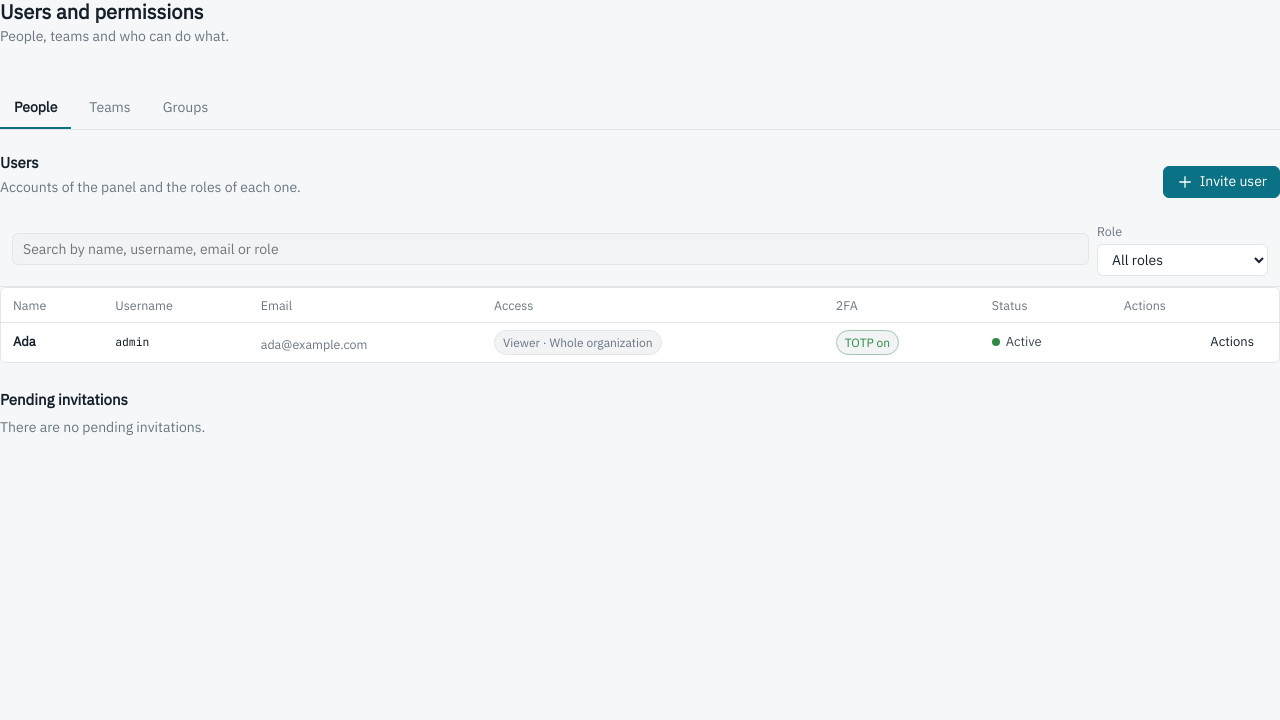
Test: Users screen › falls back to exact-name text entry when the stack list fails
Click the button "Invite user". click: point(1221, 182)
box: [1163,166,1279,198]
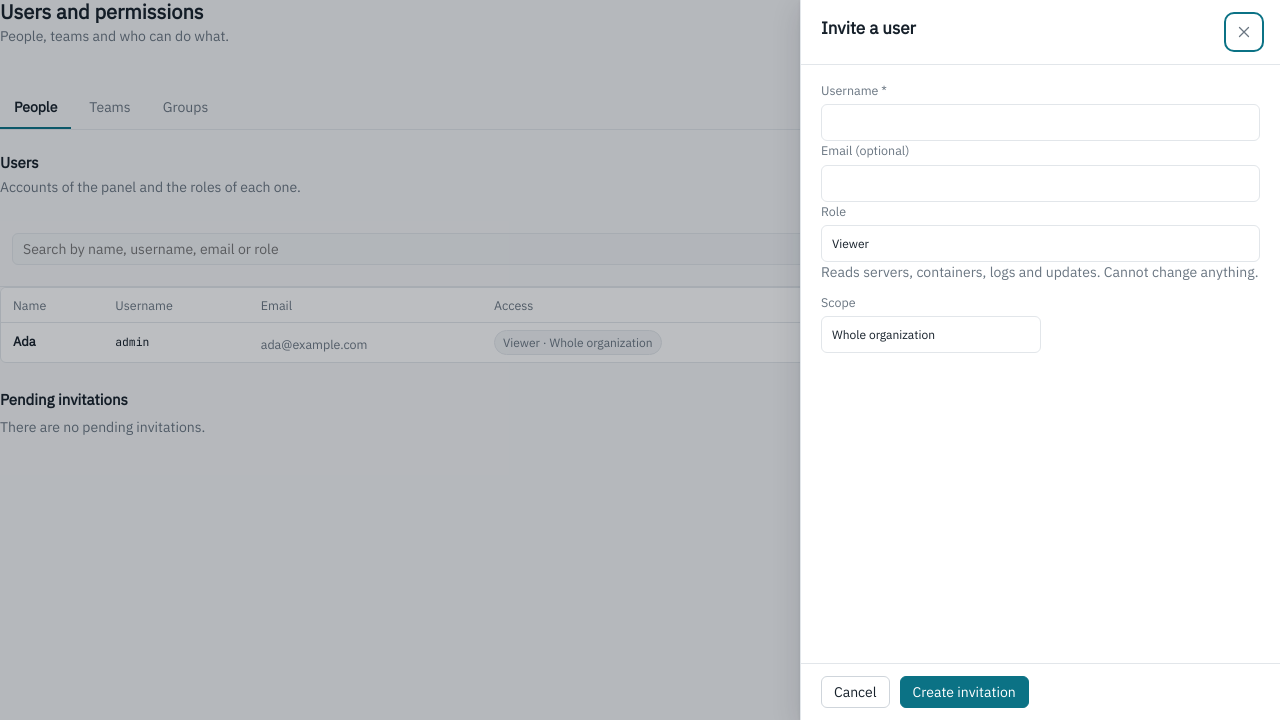
Select "Application operator" in the dropdown labelled "Role". click: point(1040, 244)
box: [821,225,1260,262]
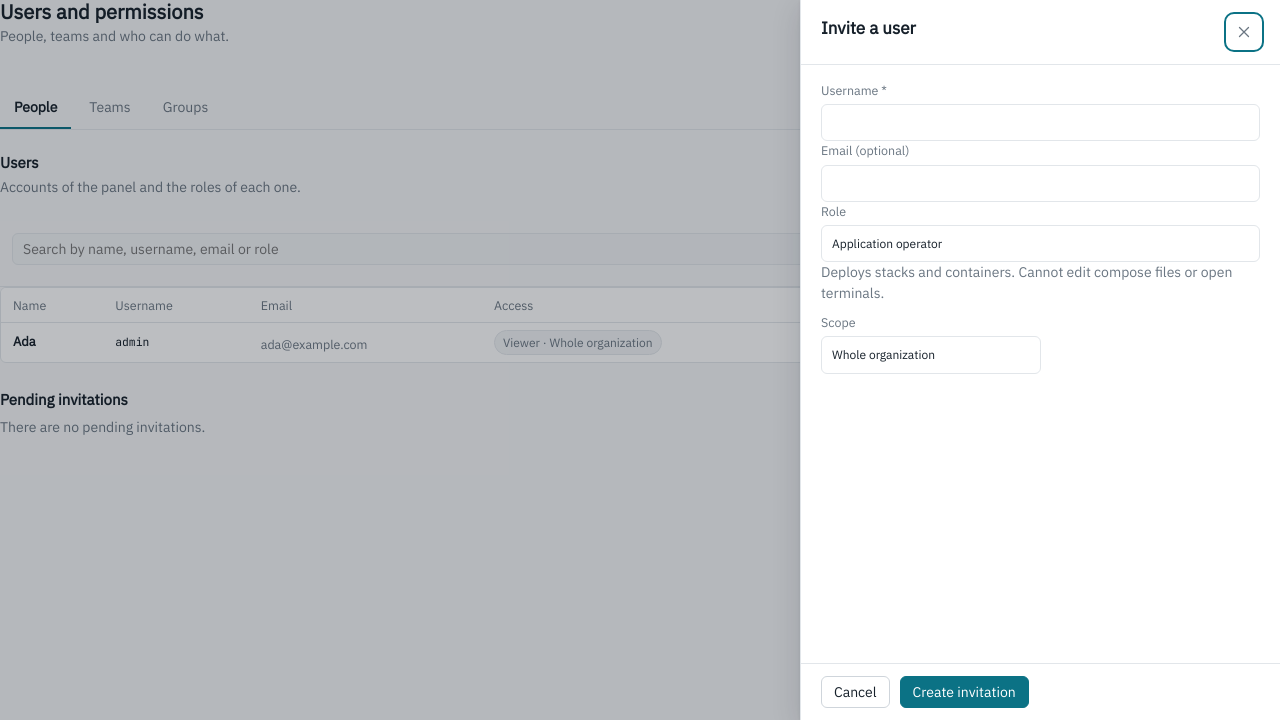
Select "Stack" in the dropdown labelled "Scope". click: point(931, 355)
box: [821,336,1041,374]
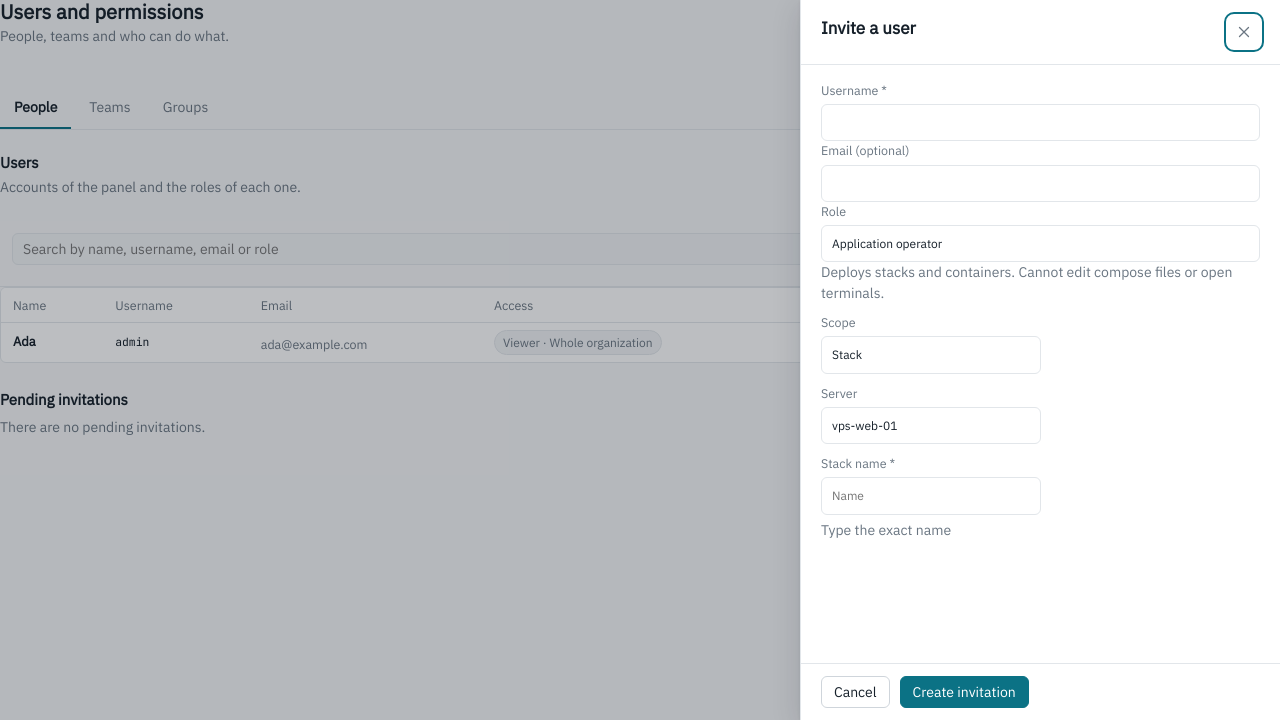
Check: the field with placeholder "name" is shown, box [821,477,1041,514]
Check: the text "Type the exact name" is shown, box [821,520,951,538]
